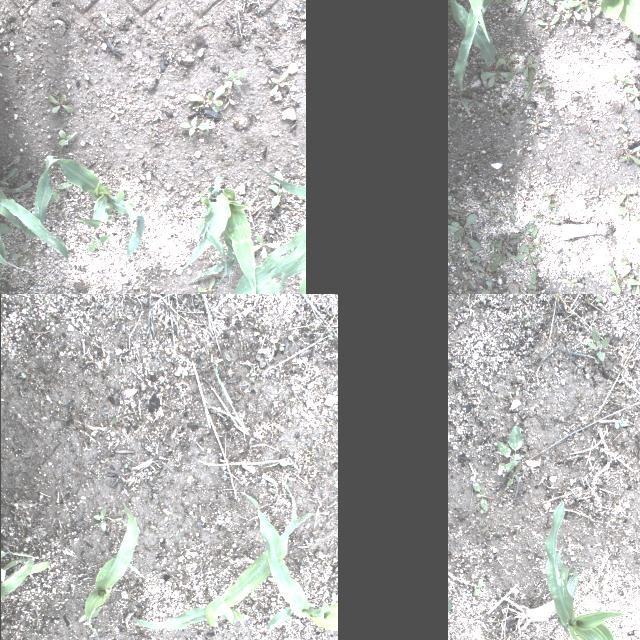crop: (130, 482, 330, 632), (240, 493, 338, 631), (545, 498, 635, 640), (33, 154, 145, 258), (160, 224, 305, 294), (448, 0, 532, 116), (78, 500, 146, 640), (180, 174, 258, 294), (0, 168, 67, 294), (448, 0, 498, 132), (0, 558, 50, 598), (252, 160, 306, 197), (599, 0, 640, 35), (1, 551, 33, 559)
weed: (200, 370, 248, 434), (510, 220, 544, 264), (496, 423, 522, 473), (448, 214, 480, 252), (489, 233, 517, 270), (188, 86, 226, 112), (481, 56, 513, 86), (268, 171, 290, 209), (587, 328, 611, 362), (105, 188, 134, 216), (607, 265, 633, 294), (522, 70, 548, 98), (253, 234, 280, 260), (10, 241, 36, 267), (222, 68, 250, 90), (568, 0, 598, 20), (496, 463, 520, 487), (93, 506, 115, 532), (90, 418, 118, 437), (180, 118, 208, 136), (84, 234, 110, 253), (516, 56, 538, 78), (472, 482, 488, 512), (538, 186, 558, 208), (270, 72, 288, 96), (48, 95, 72, 113), (535, 14, 559, 32), (616, 184, 636, 204), (619, 146, 640, 164), (624, 86, 640, 109), (524, 116, 550, 130), (50, 182, 70, 200), (448, 204, 466, 224), (198, 277, 218, 294), (462, 92, 483, 108), (562, 2, 580, 20), (527, 271, 541, 294), (476, 264, 492, 284), (546, 202, 566, 218), (628, 268, 640, 294), (58, 129, 76, 145), (563, 274, 583, 288), (592, 0, 607, 18), (622, 30, 640, 44), (500, 54, 514, 72), (624, 78, 638, 96), (619, 200, 631, 220), (279, 460, 299, 472), (484, 203, 498, 220), (462, 271, 476, 287), (507, 200, 518, 220), (482, 281, 498, 294), (568, 251, 588, 261), (591, 188, 605, 202), (279, 336, 293, 350), (220, 93, 236, 105), (632, 234, 640, 258), (615, 116, 627, 132), (452, 245, 463, 262), (476, 195, 489, 208), (110, 106, 122, 120), (134, 280, 146, 294), (494, 110, 508, 122), (588, 137, 600, 151), (245, 368, 257, 382), (0, 216, 9, 234), (558, 254, 568, 270), (604, 76, 624, 84), (466, 250, 479, 262), (194, 190, 206, 202), (502, 108, 514, 120), (473, 580, 482, 596), (100, 11, 110, 25), (486, 237, 496, 251), (206, 119, 214, 135), (243, 200, 253, 212), (534, 88, 546, 98), (620, 252, 630, 264), (124, 464, 136, 474), (150, 525, 164, 533), (448, 187, 455, 202), (556, 8, 566, 18), (99, 457, 109, 467), (616, 420, 626, 430), (620, 135, 632, 143), (20, 372, 34, 378), (162, 203, 172, 211), (542, 268, 550, 278), (125, 233, 131, 245), (458, 280, 467, 288), (540, 0, 554, 5), (467, 262, 475, 270), (542, 220, 558, 224), (250, 594, 258, 602), (578, 56, 586, 62), (84, 74, 88, 80), (638, 203, 640, 214), (117, 269, 121, 273), (560, 24, 566, 26)
